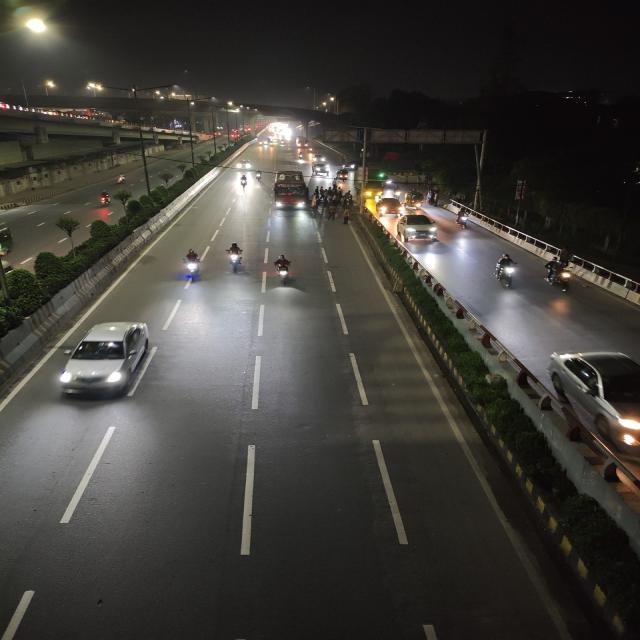bus: (270, 170, 309, 213)
car: (543, 344, 640, 458), (51, 317, 162, 405), (388, 212, 442, 246), (373, 196, 405, 216), (236, 157, 252, 170)
cng: (0, 221, 17, 263), (334, 168, 353, 182)
motorcycle: (174, 247, 208, 290), (542, 258, 579, 294), (491, 252, 524, 292), (269, 253, 297, 288), (222, 241, 250, 275), (453, 209, 472, 230), (95, 188, 114, 208), (114, 172, 129, 186), (238, 173, 250, 189), (253, 169, 264, 183)
pedestrian: (426, 188, 438, 206), (318, 187, 330, 205), (341, 209, 352, 227), (343, 190, 353, 206), (328, 206, 338, 220), (324, 204, 332, 220), (314, 187, 322, 203)
truck: (360, 166, 386, 200)
